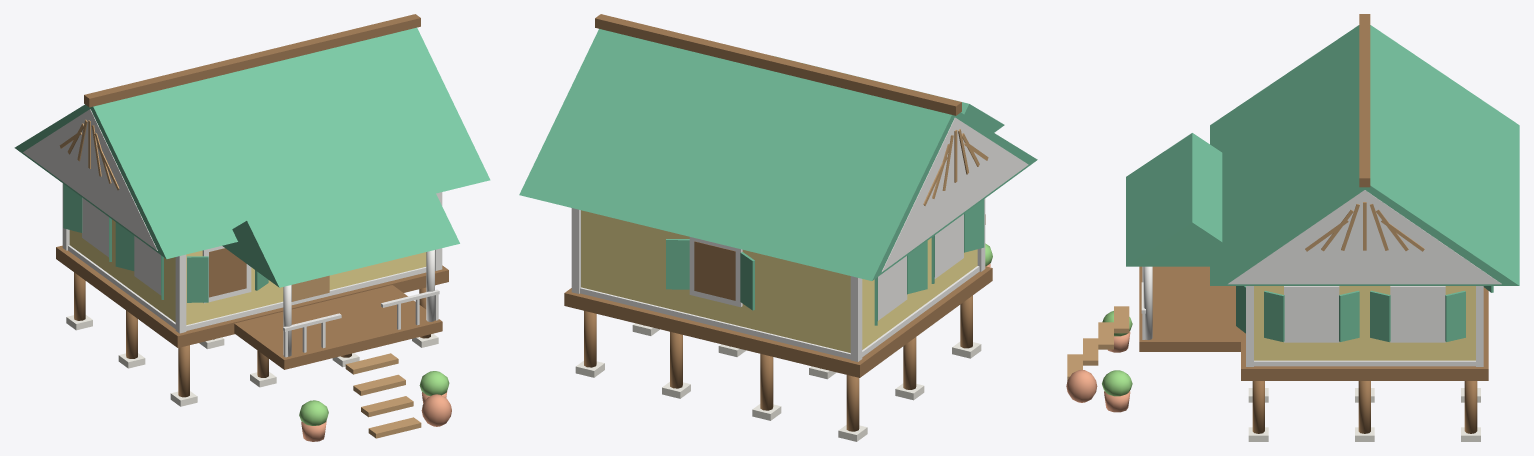
Rendered from Bld_KampungHouse3.fbx.
3 renders of one model, left to right at view 1: azimuth 30°, elevation 25°; view 2: azimuth 150°, elevation 25°; view 3: azimuth 270°, elevation 25°, orthographic. The views are drawn at different scales.
Parts seen in each view (by area): view 1: Bld_KampungHouse3; view 2: Bld_KampungHouse3; view 3: Bld_KampungHouse3.
Boxes of the visible parts, box(x1,y1,x2,y2) form: Bld_KampungHouse3: box(14, 14, 490, 441); Bld_KampungHouse3: box(519, 14, 1037, 441); Bld_KampungHouse3: box(1066, 14, 1519, 441).
Size of the model in its own units: 8.8 by 7.06 by 10.25.
